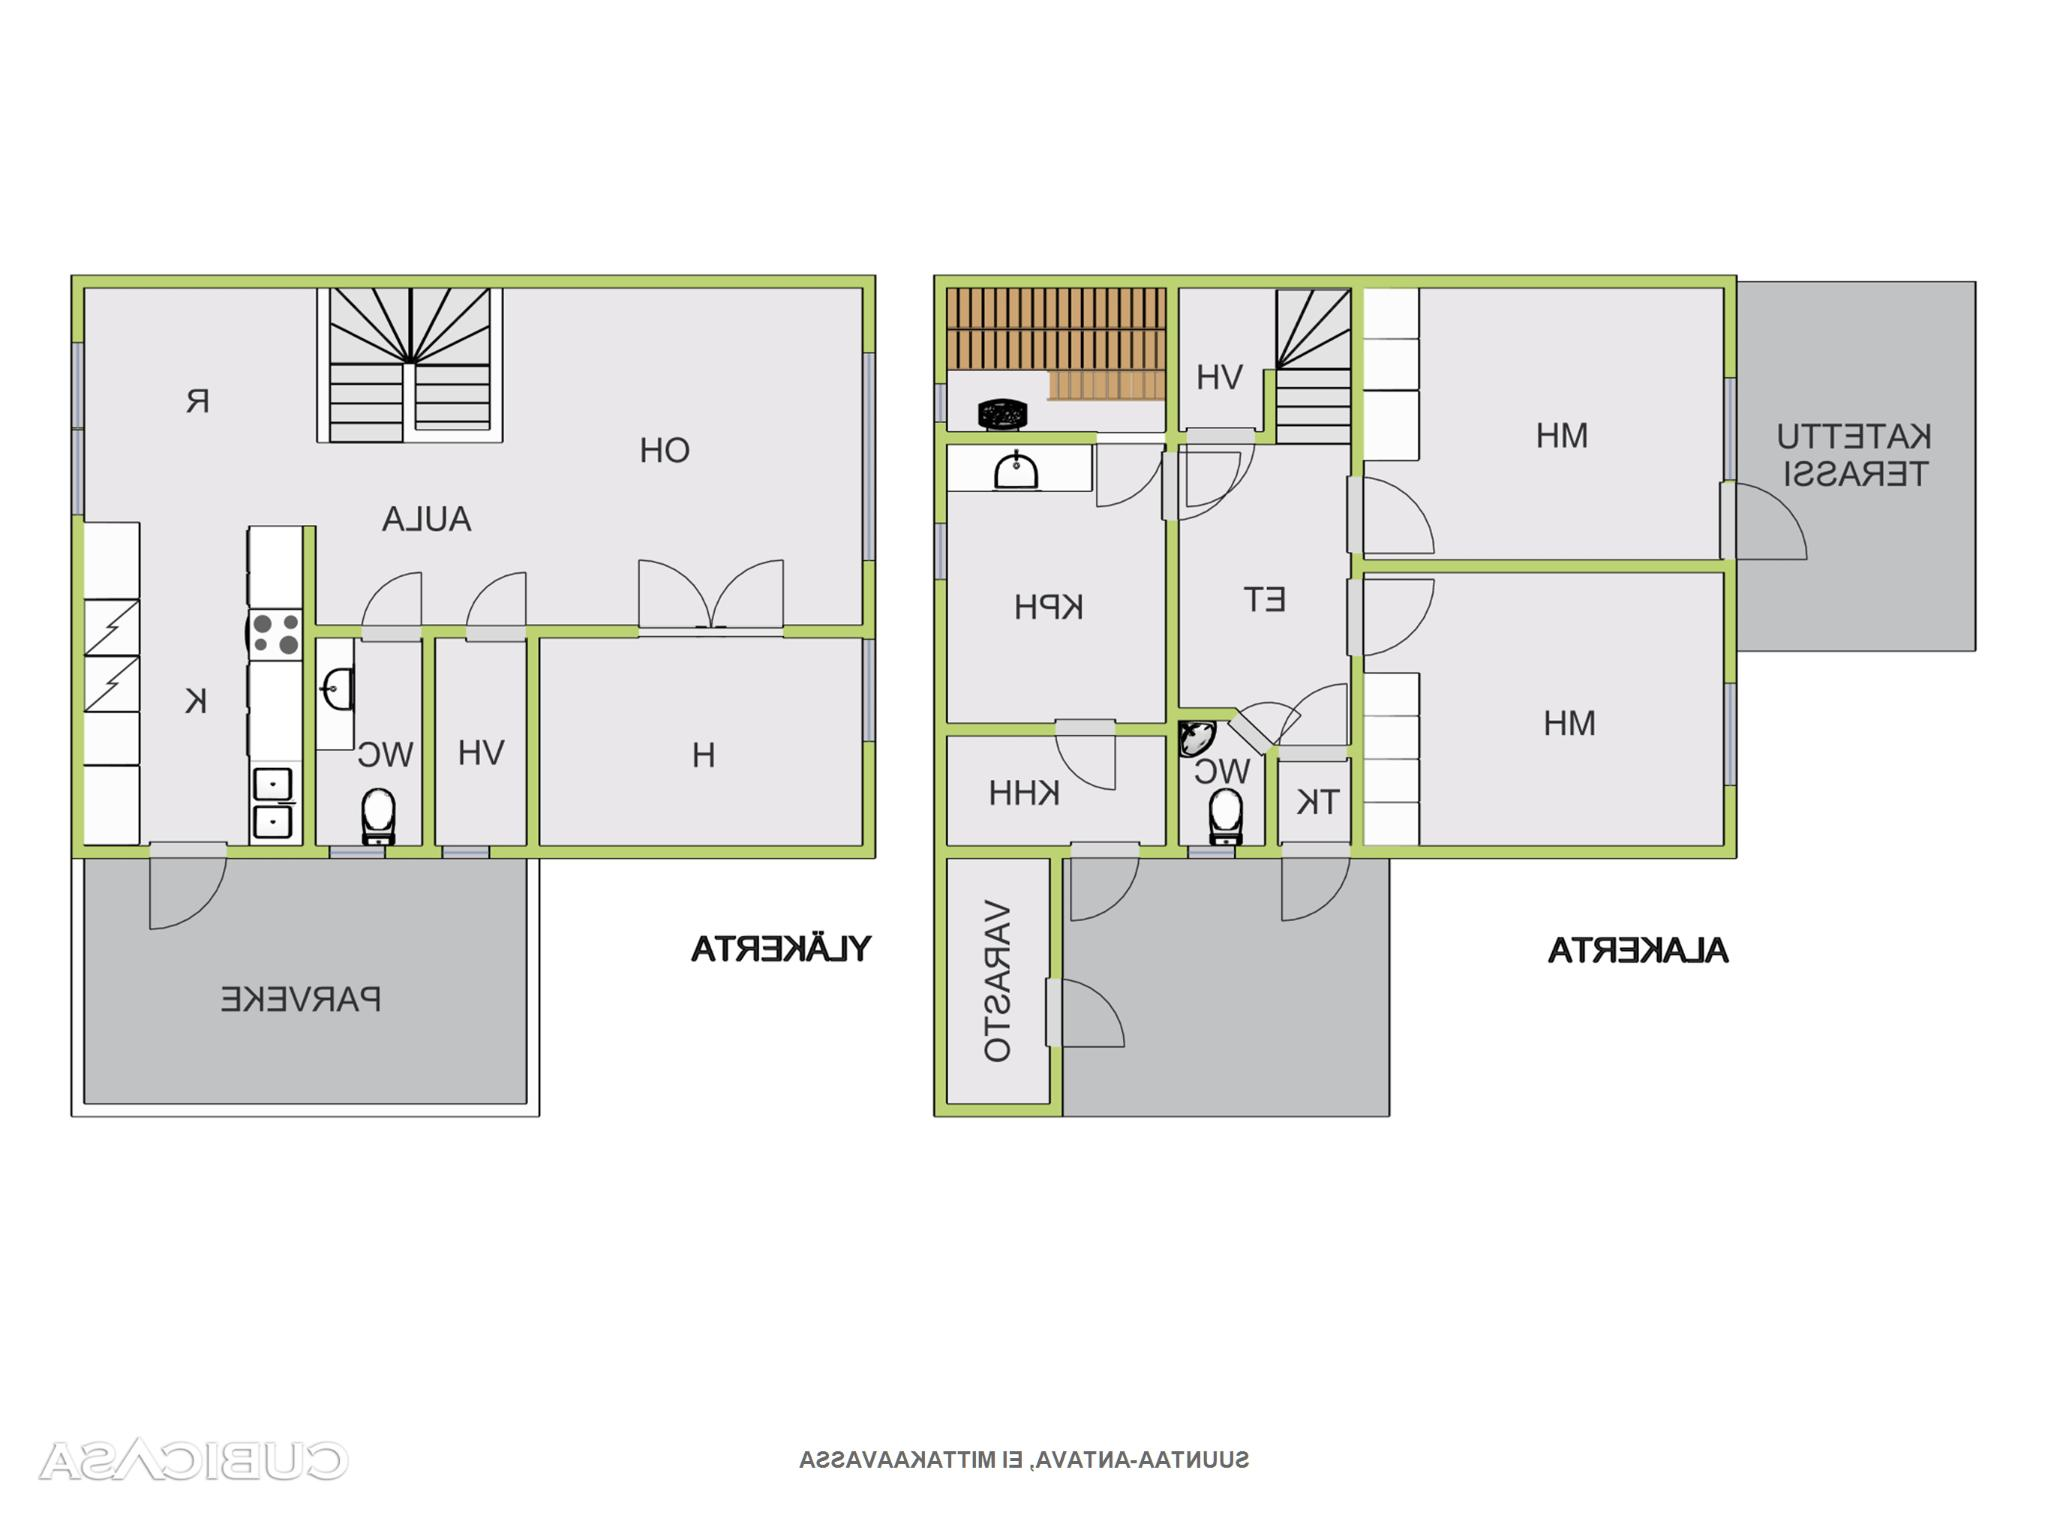bathroom: (314, 624, 419, 845), (1179, 716, 1274, 847)
door: (1332, 565, 1443, 666), (1327, 468, 1438, 565), (1706, 479, 1824, 568), (1048, 837, 1150, 926), (140, 836, 231, 931), (710, 545, 792, 649), (1034, 971, 1129, 1060), (627, 555, 716, 644), (1043, 708, 1127, 797), (1085, 431, 1171, 515), (1274, 676, 1361, 758), (1272, 842, 1358, 925), (1158, 447, 1242, 526), (353, 570, 432, 644), (1180, 431, 1264, 500), (458, 570, 534, 645), (1227, 692, 1297, 758)
perimeter: (935, 278, 1740, 1117), (68, 271, 882, 858)
stairs: (323, 287, 497, 445), (1277, 287, 1356, 444)
window: (848, 347, 887, 579), (63, 332, 98, 524), (1709, 670, 1748, 805), (1714, 365, 1748, 494), (856, 626, 884, 757), (914, 513, 956, 592), (319, 837, 393, 871), (1176, 841, 1247, 870), (434, 841, 502, 870), (921, 374, 950, 431)
